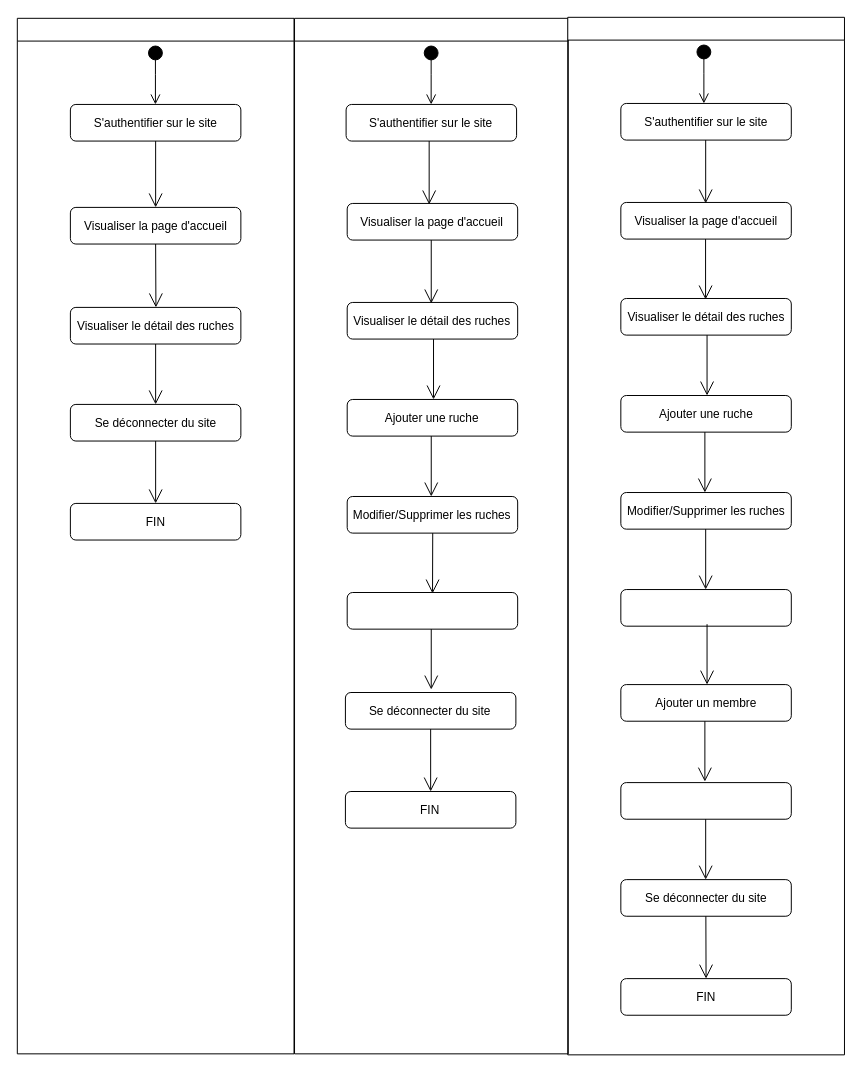
Some shapes in this 862 by 1072 pixel diagram are drawn without their labels. Each missing label, with the box of its shape:
Administrateur: (567, 16, 844, 1055)
Ajouter/supprimer un visiteur: (346, 592, 518, 629)
Apiculteur: (294, 17, 568, 1054)
Modifier/Supprimer les membres: (620, 782, 791, 819)
Visiteur: (16, 17, 294, 1054)
Visualiser tout les membres: (620, 589, 791, 626)
